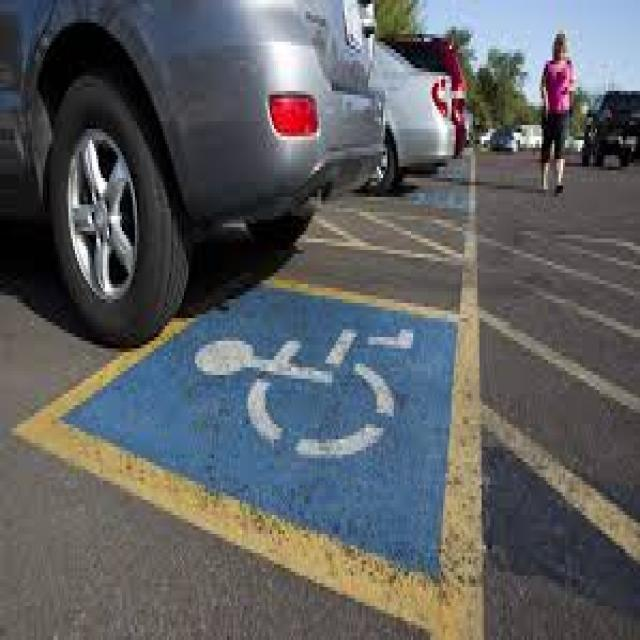symbol_of_access: (195, 326, 422, 458)
